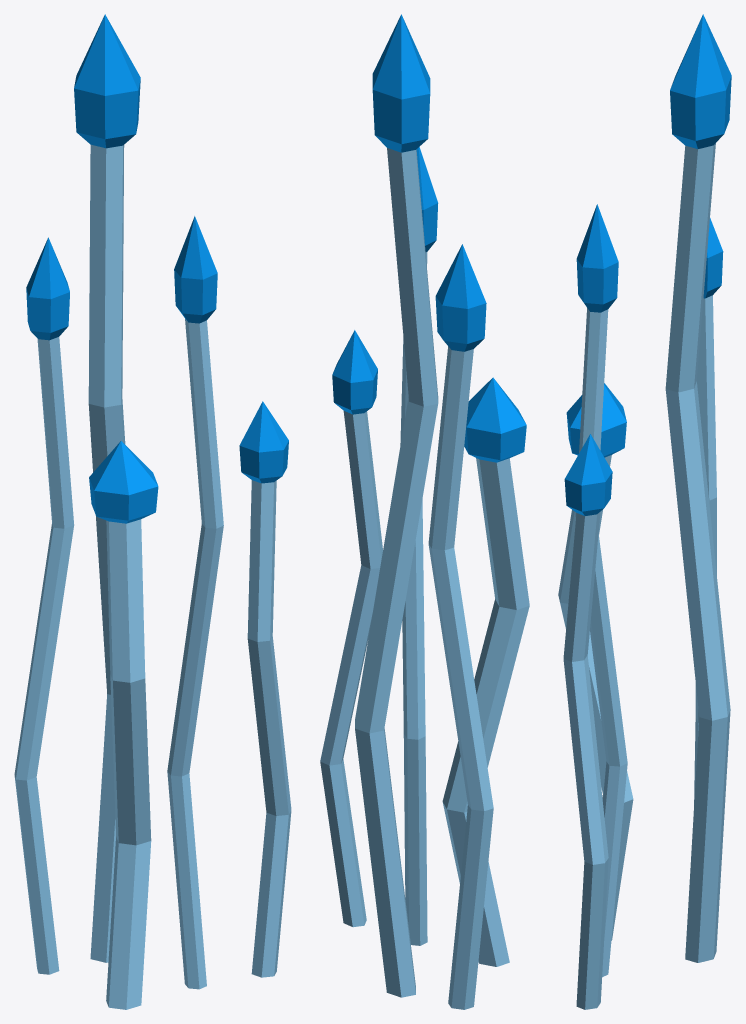
The model's file is SP_Plant06.fbx.
3 renders of one model, left to right at view 1: azimuth 30°, elevation 25°; view 2: azimuth 150°, elevation 25°; view 3: azimuth 270°, elevation 25°, orthographic. The views are drawn at different scales.
Visible parts, largest first — view 1: SP_Plant06; view 2: SP_Plant06; view 3: SP_Plant06.
Boxes of the visible parts, bbox=[...] form: SP_Plant06: bbox=[14, 14, 291, 1009]; SP_Plant06: bbox=[320, 14, 529, 1009]; SP_Plant06: bbox=[558, 14, 731, 1009].
Size of the model in its own units: 26.16 by 107 by 17.85.
Materials: 1 (1 with a texture image).
